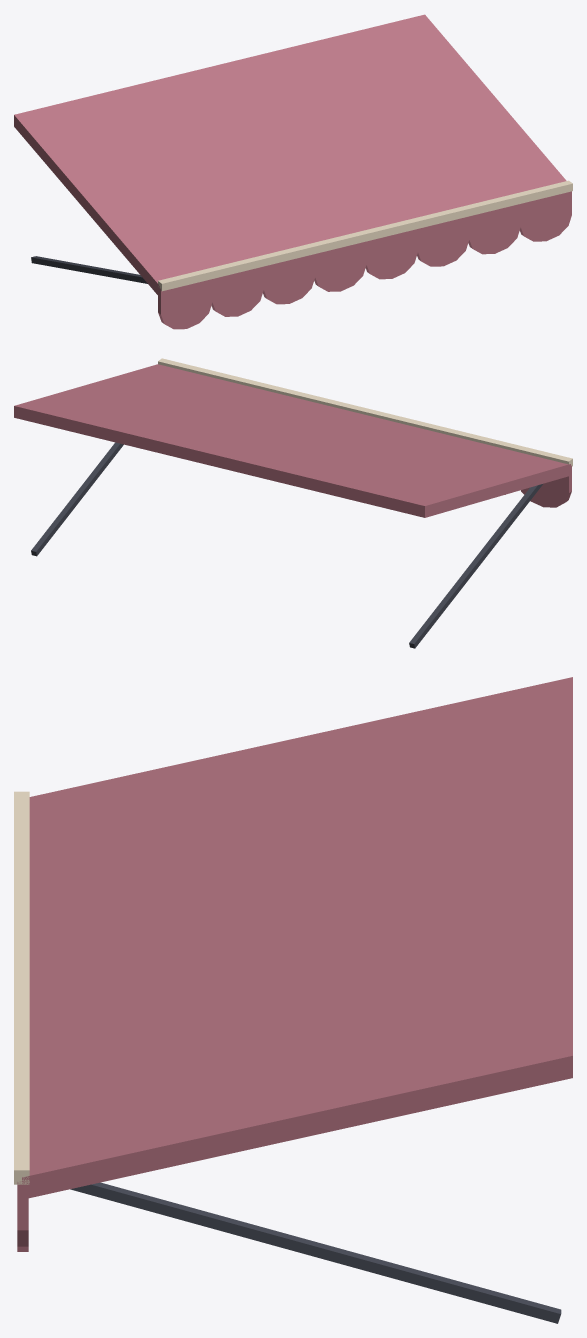
File: SM_Cafe_Awning_2m.fbx
3 renders of one model, top to bottom at view 1: azimuth 30°, elevation 25°; view 2: azimuth 150°, elevation 25°; view 3: azimuth 270°, elevation 25°, orthographic. The views are drawn at different scales.
Parts seen in each view (by area): view 1: SM_Cafe_Awning_2m; view 2: SM_Cafe_Awning_2m; view 3: SM_Cafe_Awning_2m.
Boxes of the visible parts, x1,y1,x2,y2 form: SM_Cafe_Awning_2m: (14, 14, 572, 329); SM_Cafe_Awning_2m: (14, 358, 572, 648); SM_Cafe_Awning_2m: (14, 677, 572, 1323).
Bounding box in the file's own units: 2 × 1.25 × 0.692.
